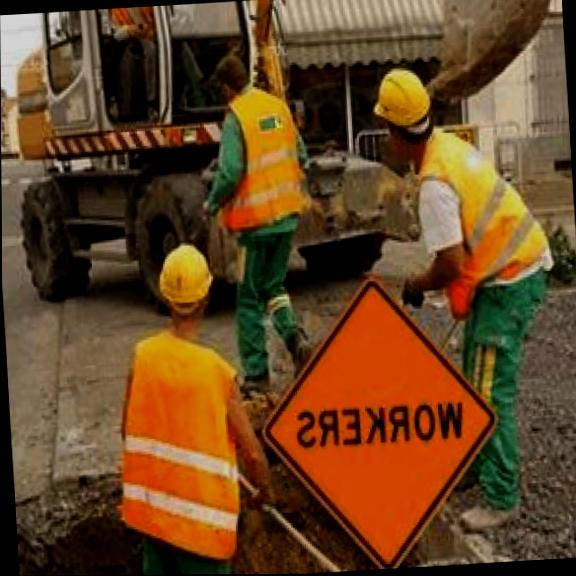no_safety_vest: (220, 90, 293, 232)
safety_vest: (110, 324, 242, 547), (423, 129, 547, 287)
